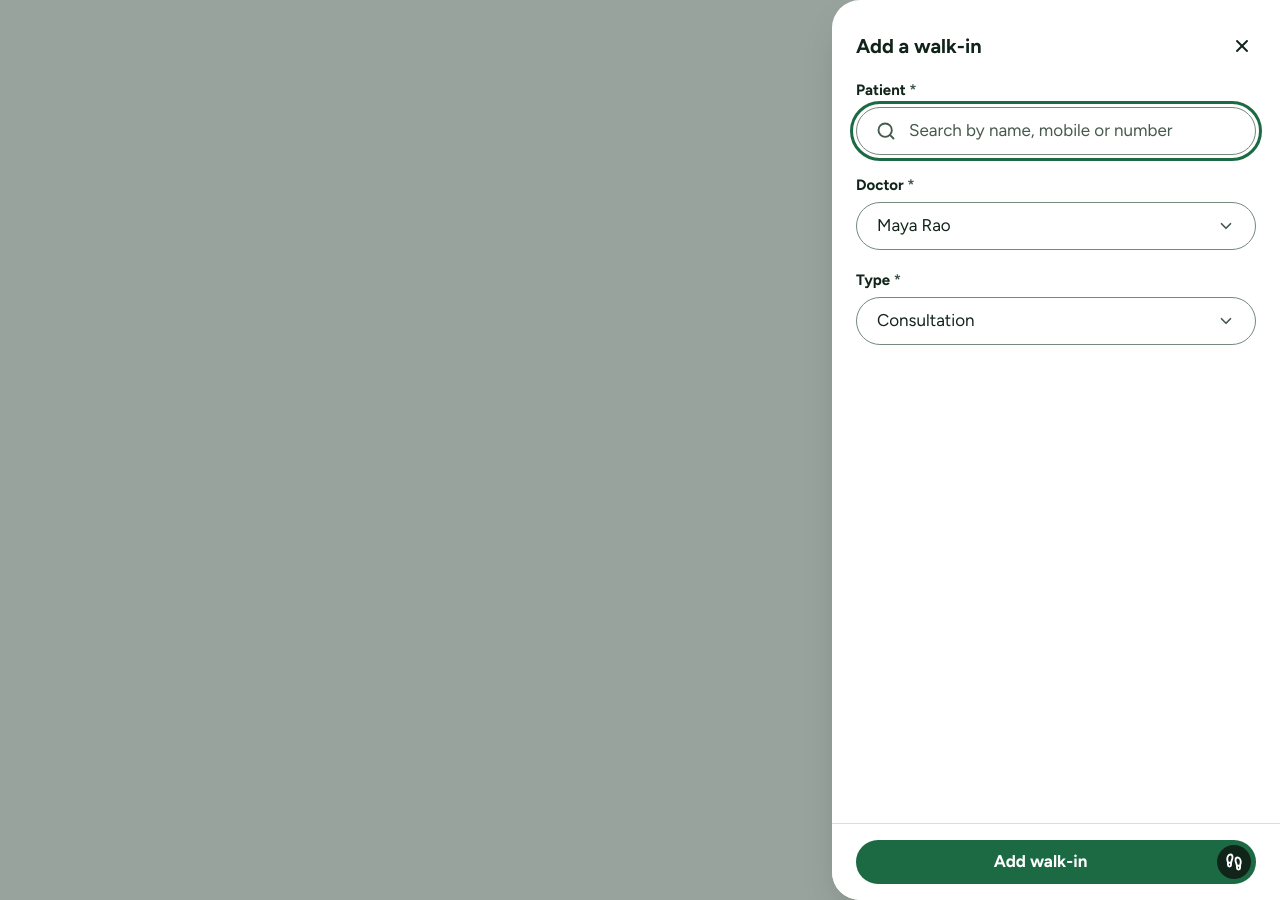
Test: WalkInSheet (plan §11.3; D171, D173, D175) › says plainly when it was not added for another reason, and offers no new patient to someone who may not add one
Type "roh" into the search field.
click(1056, 131); type("roh")  # box x1=856 y1=107 x2=1256 y2=155
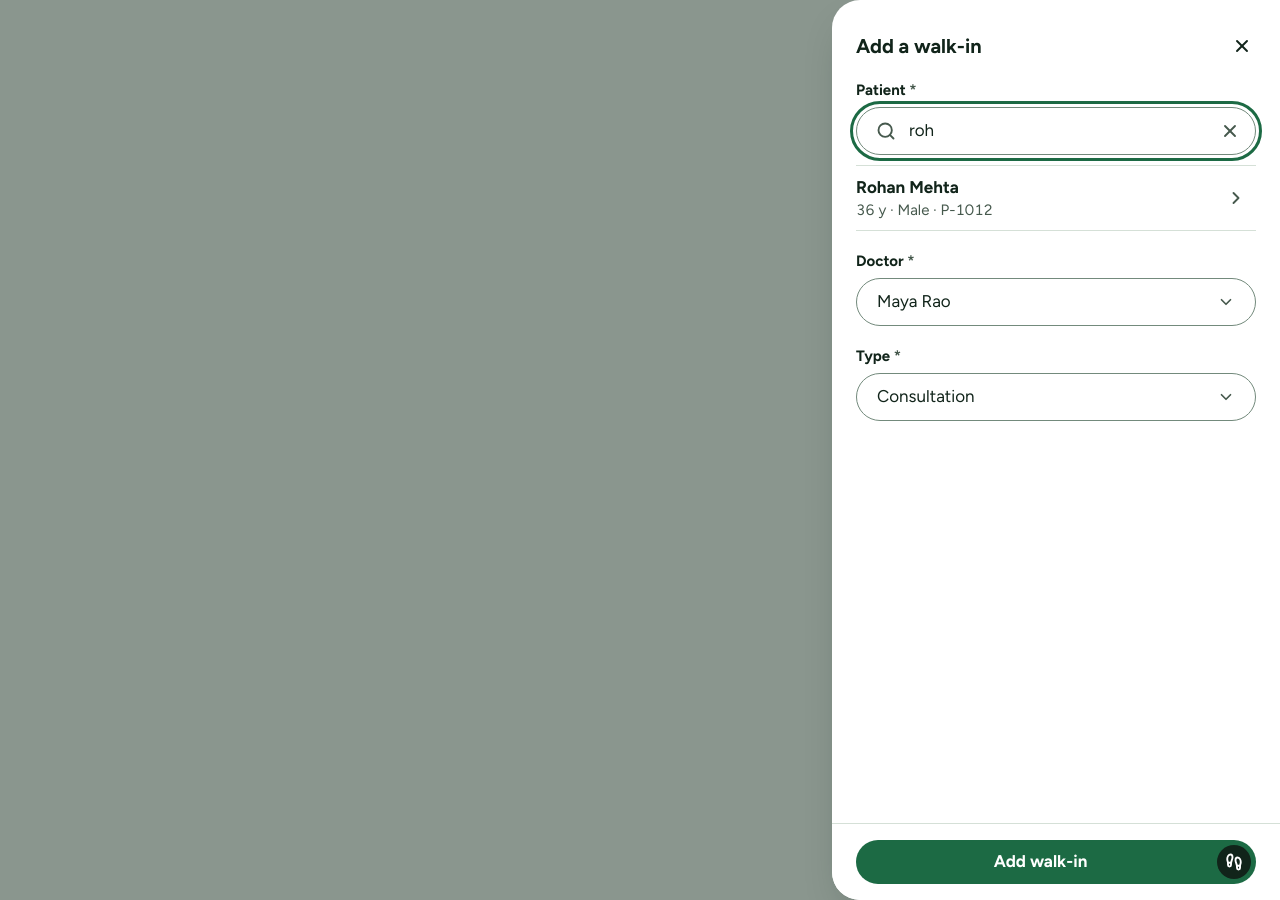
Click the button "Rohan Mehta".
click(907, 187)  # box x1=856 y1=175 x2=1214 y2=200
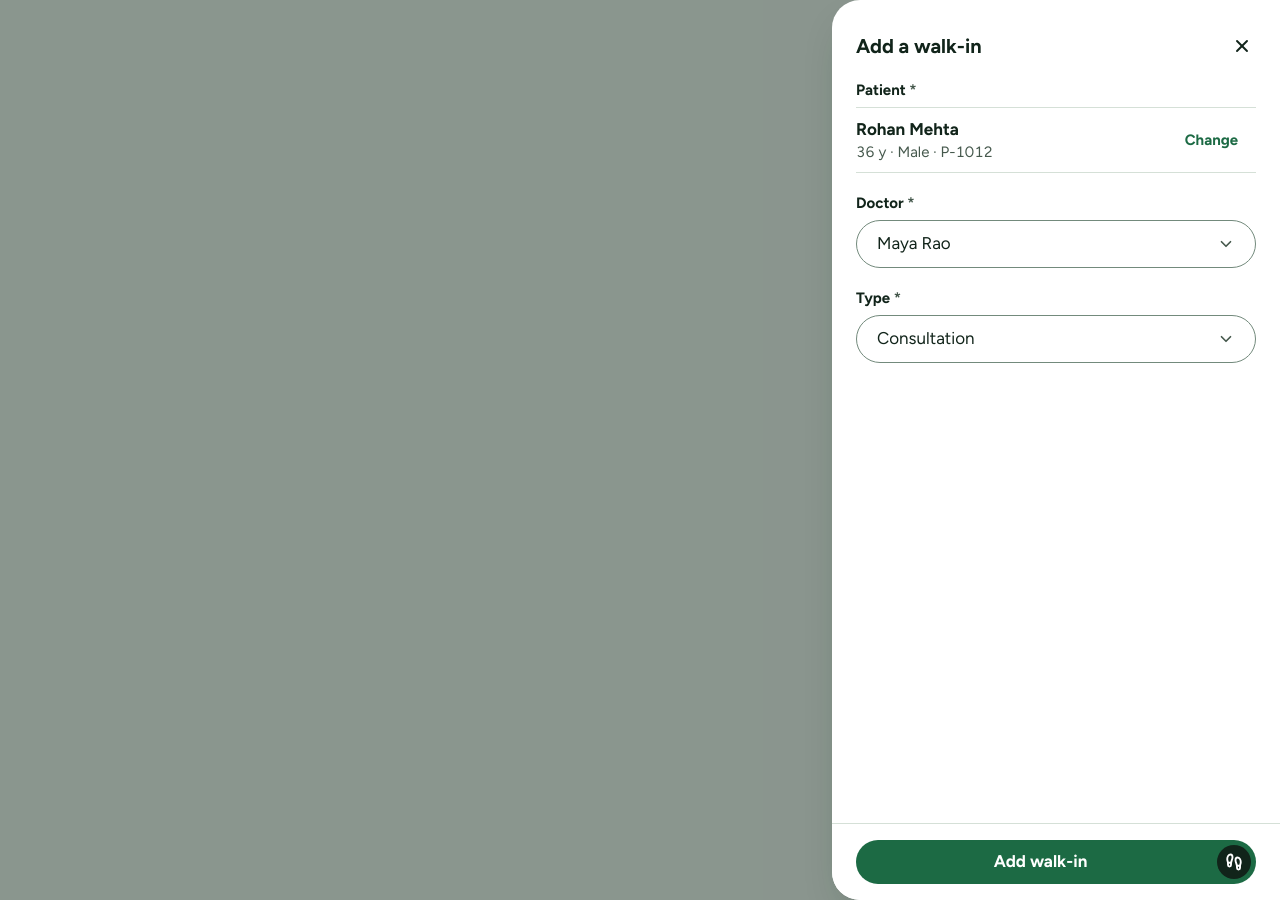
Click the button "Add walk-in".
click(1056, 862)  # box x1=856 y1=840 x2=1256 y2=884
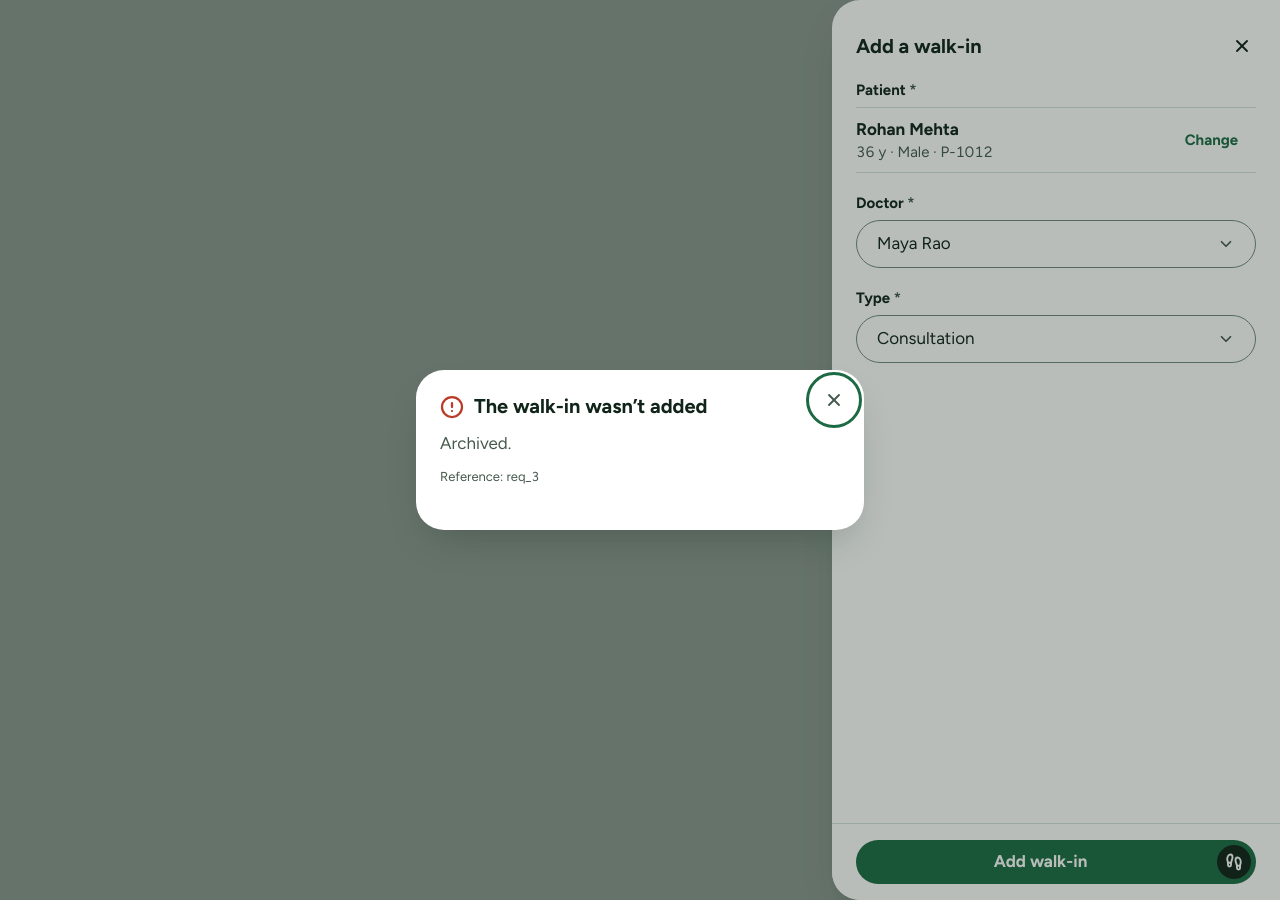
Result: the dialog "The walk-in wasn’t added" shows "Archived." at x1=440 y1=433 x2=511 y2=453
